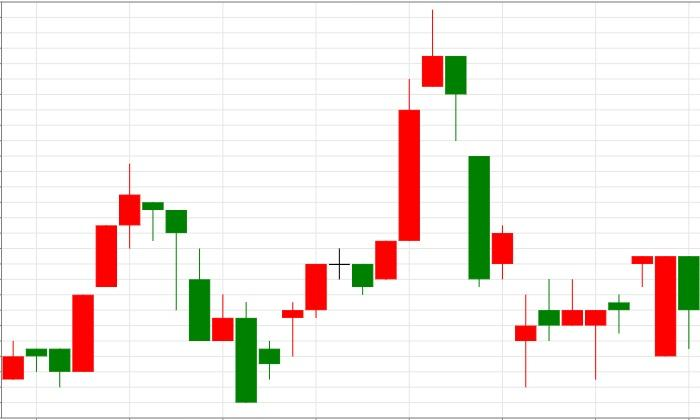shooting_star_fall: (282, 8, 444, 357)
